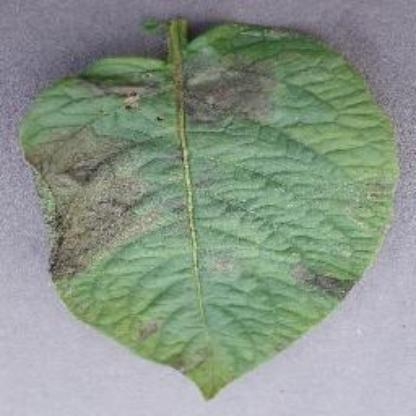Late-Blight: (12, 0, 408, 390)
